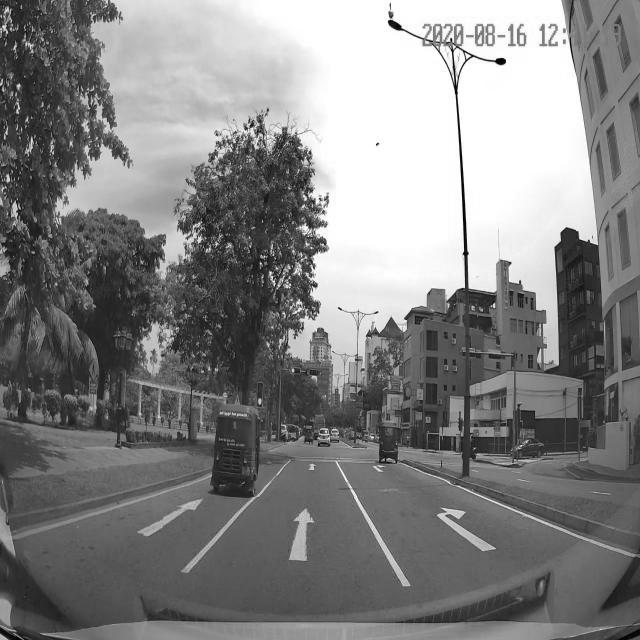forward: (163, 498, 411, 579)
